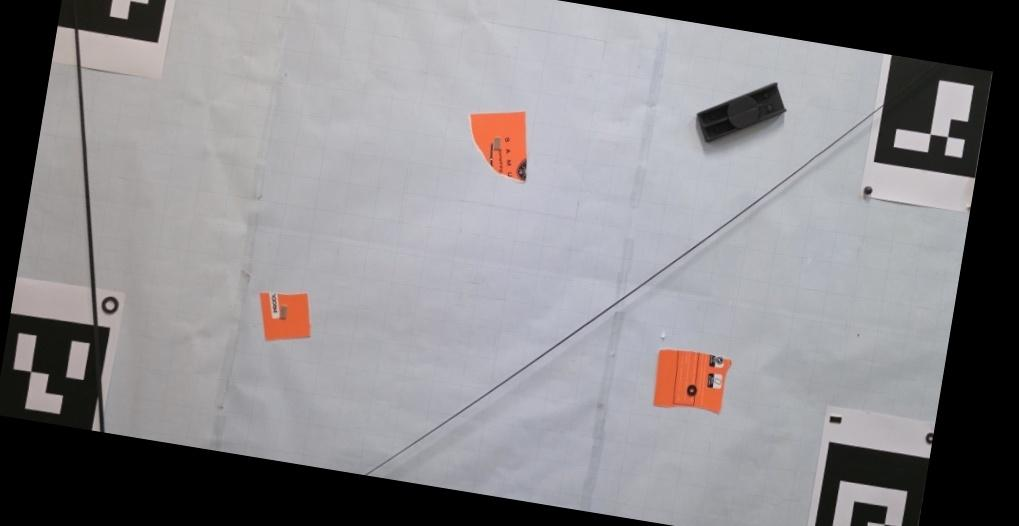obstacle: (696, 84, 785, 146), (653, 348, 731, 414), (470, 110, 527, 184), (261, 292, 310, 341)
